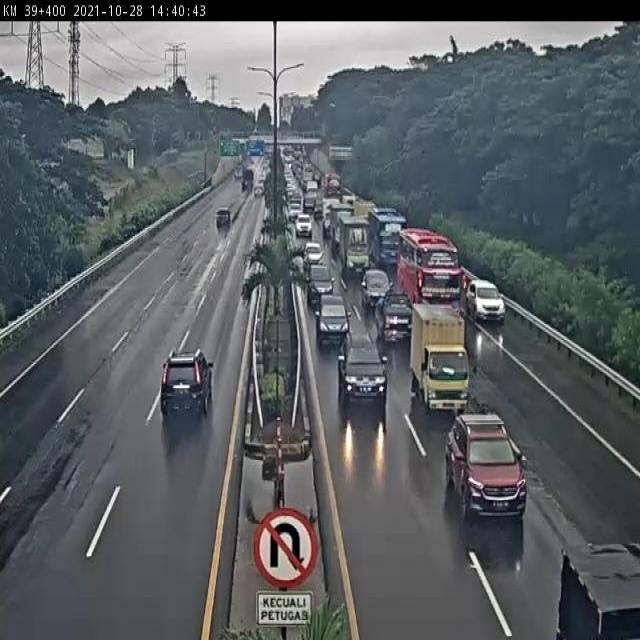bus-l-: (396, 225, 463, 324), (368, 206, 408, 266)
car: (444, 415, 530, 521), (160, 348, 215, 420), (338, 330, 387, 402), (375, 289, 416, 339), (464, 279, 505, 321), (315, 291, 347, 337), (359, 266, 391, 306), (305, 260, 333, 299), (300, 240, 324, 269)
truck-m-: (338, 215, 370, 276)
truck-s-: (410, 300, 471, 417)
